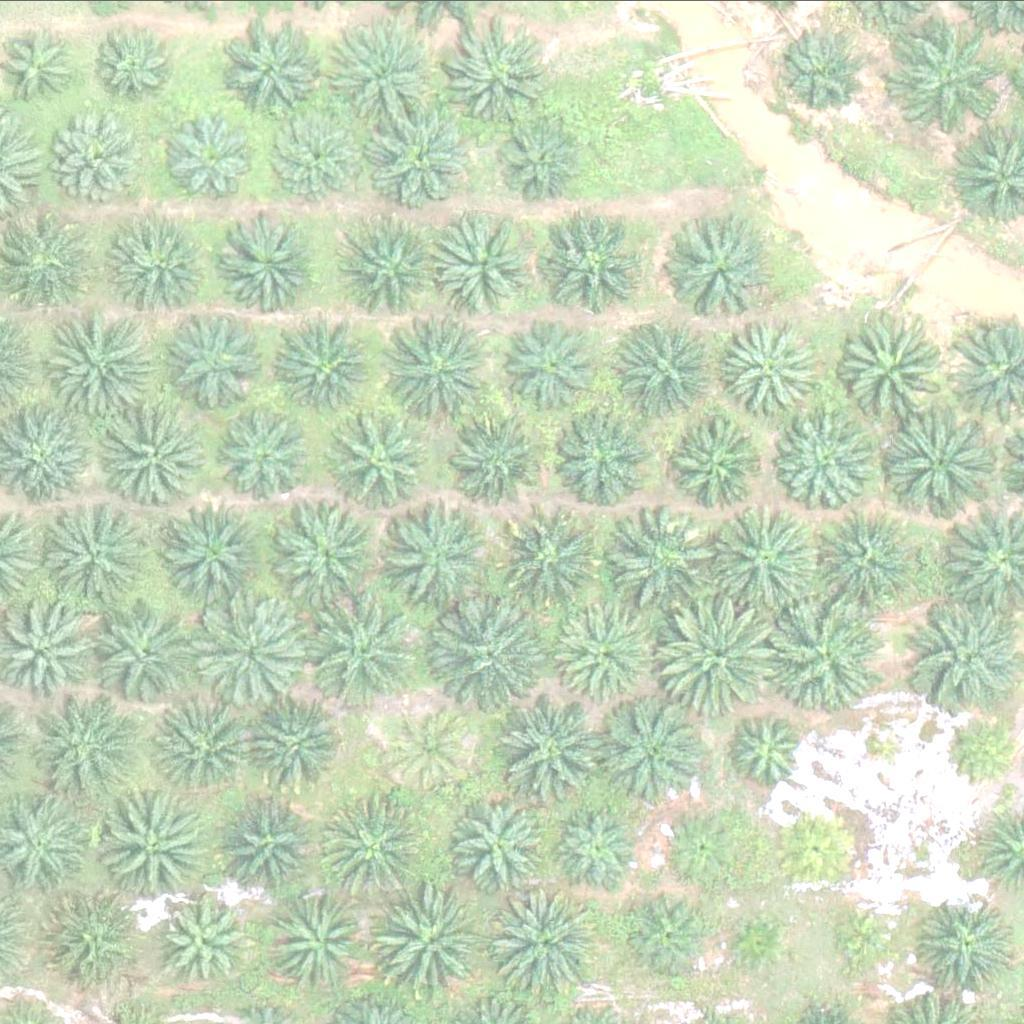Kelapa_Sawit: (309, 597, 423, 710), (95, 796, 208, 909), (40, 305, 153, 418), (885, 409, 998, 522), (766, 594, 879, 707), (602, 504, 715, 617), (435, 597, 548, 710), (488, 887, 601, 1000), (376, 886, 489, 999), (703, 502, 817, 614), (655, 600, 769, 712), (194, 597, 307, 709), (37, 496, 150, 608), (837, 314, 950, 426), (322, 22, 435, 134), (380, 310, 493, 422), (318, 789, 431, 901), (501, 691, 614, 803), (594, 696, 707, 808), (41, 877, 142, 977), (217, 804, 318, 904), (148, 701, 249, 801), (48, 691, 149, 791), (156, 502, 257, 602), (112, 402, 213, 502), (164, 309, 265, 409), (114, 212, 215, 312), (222, 211, 323, 311), (916, 899, 1017, 999), (902, 37, 1003, 137), (674, 222, 775, 322), (723, 315, 824, 415), (668, 417, 769, 517), (776, 410, 877, 510), (446, 28, 547, 128), (363, 103, 464, 203), (432, 219, 533, 319), (344, 219, 445, 319), (276, 315, 377, 415), (556, 601, 657, 701), (450, 796, 551, 896), (269, 892, 370, 992), (98, 607, 198, 707), (161, 103, 261, 203), (225, 17, 325, 117), (625, 317, 725, 417), (814, 503, 914, 603), (542, 213, 642, 313), (501, 317, 601, 417), (546, 405, 646, 505), (326, 413, 426, 513), (442, 408, 542, 508), (275, 502, 375, 602), (392, 502, 492, 602), (505, 510, 605, 610), (245, 700, 345, 800), (92, 24, 181, 112), (770, 804, 859, 892), (268, 110, 357, 198), (161, 900, 249, 988), (657, 804, 745, 892), (778, 27, 866, 115), (388, 703, 476, 791), (553, 803, 642, 890), (221, 412, 309, 499), (62, 109, 150, 196), (725, 709, 813, 796), (494, 115, 582, 202), (627, 894, 715, 981), (942, 714, 1018, 789), (719, 906, 795, 981), (827, 902, 903, 977)
